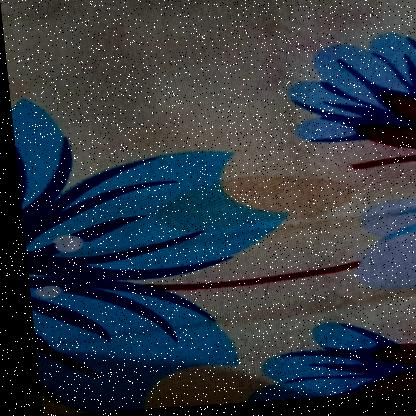spot: (135, 173, 370, 236)
